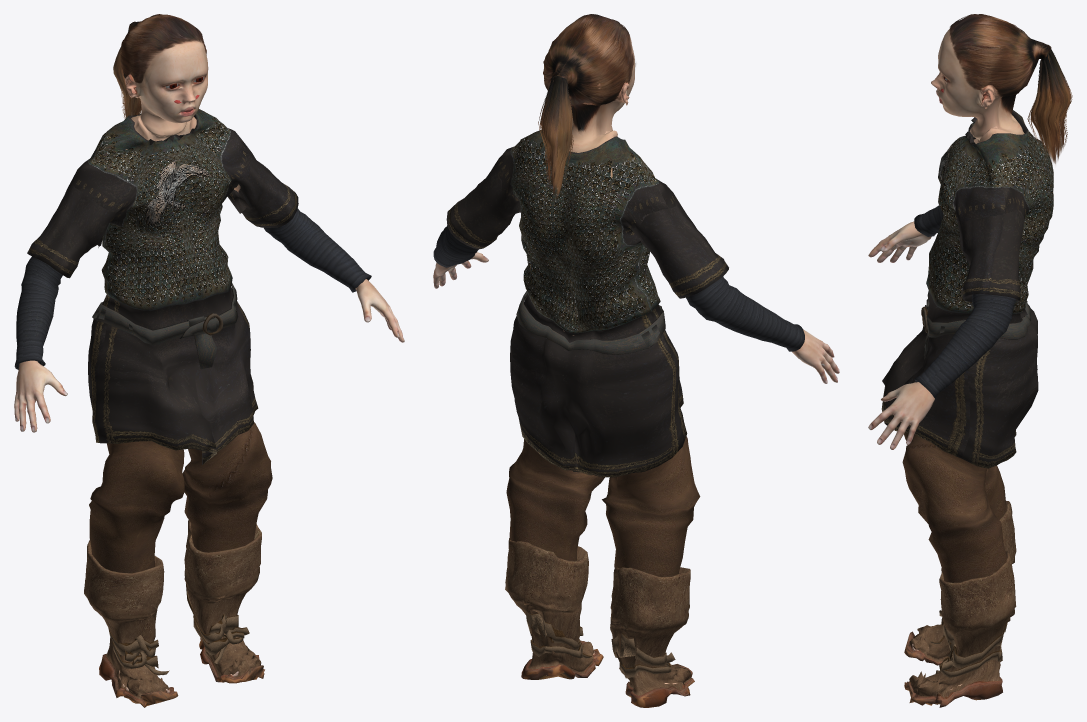
File: control-ada.glb
3 renders of one model, left to right at view 1: azimuth 30°, elevation 25°; view 2: azimuth 150°, elevation 25°; view 3: azimuth 270°, elevation 25°, orthographic. The views are drawn at different scales.
Parts seen in each view (by area): view 1: control-ada runtime mesh; view 2: control-ada runtime mesh; view 3: control-ada runtime mesh.
Part boxes in pixels (x1=…): control-ada runtime mesh: x1=14, y1=14, x2=404, y2=707; control-ada runtime mesh: x1=433, y1=14, x2=839, y2=707; control-ada runtime mesh: x1=868, y1=14, x2=1072, y2=707.
Size of the model in its own units: 1.13 by 1.85 by 0.5157.
Materials: 6 (6 with a texture image).
